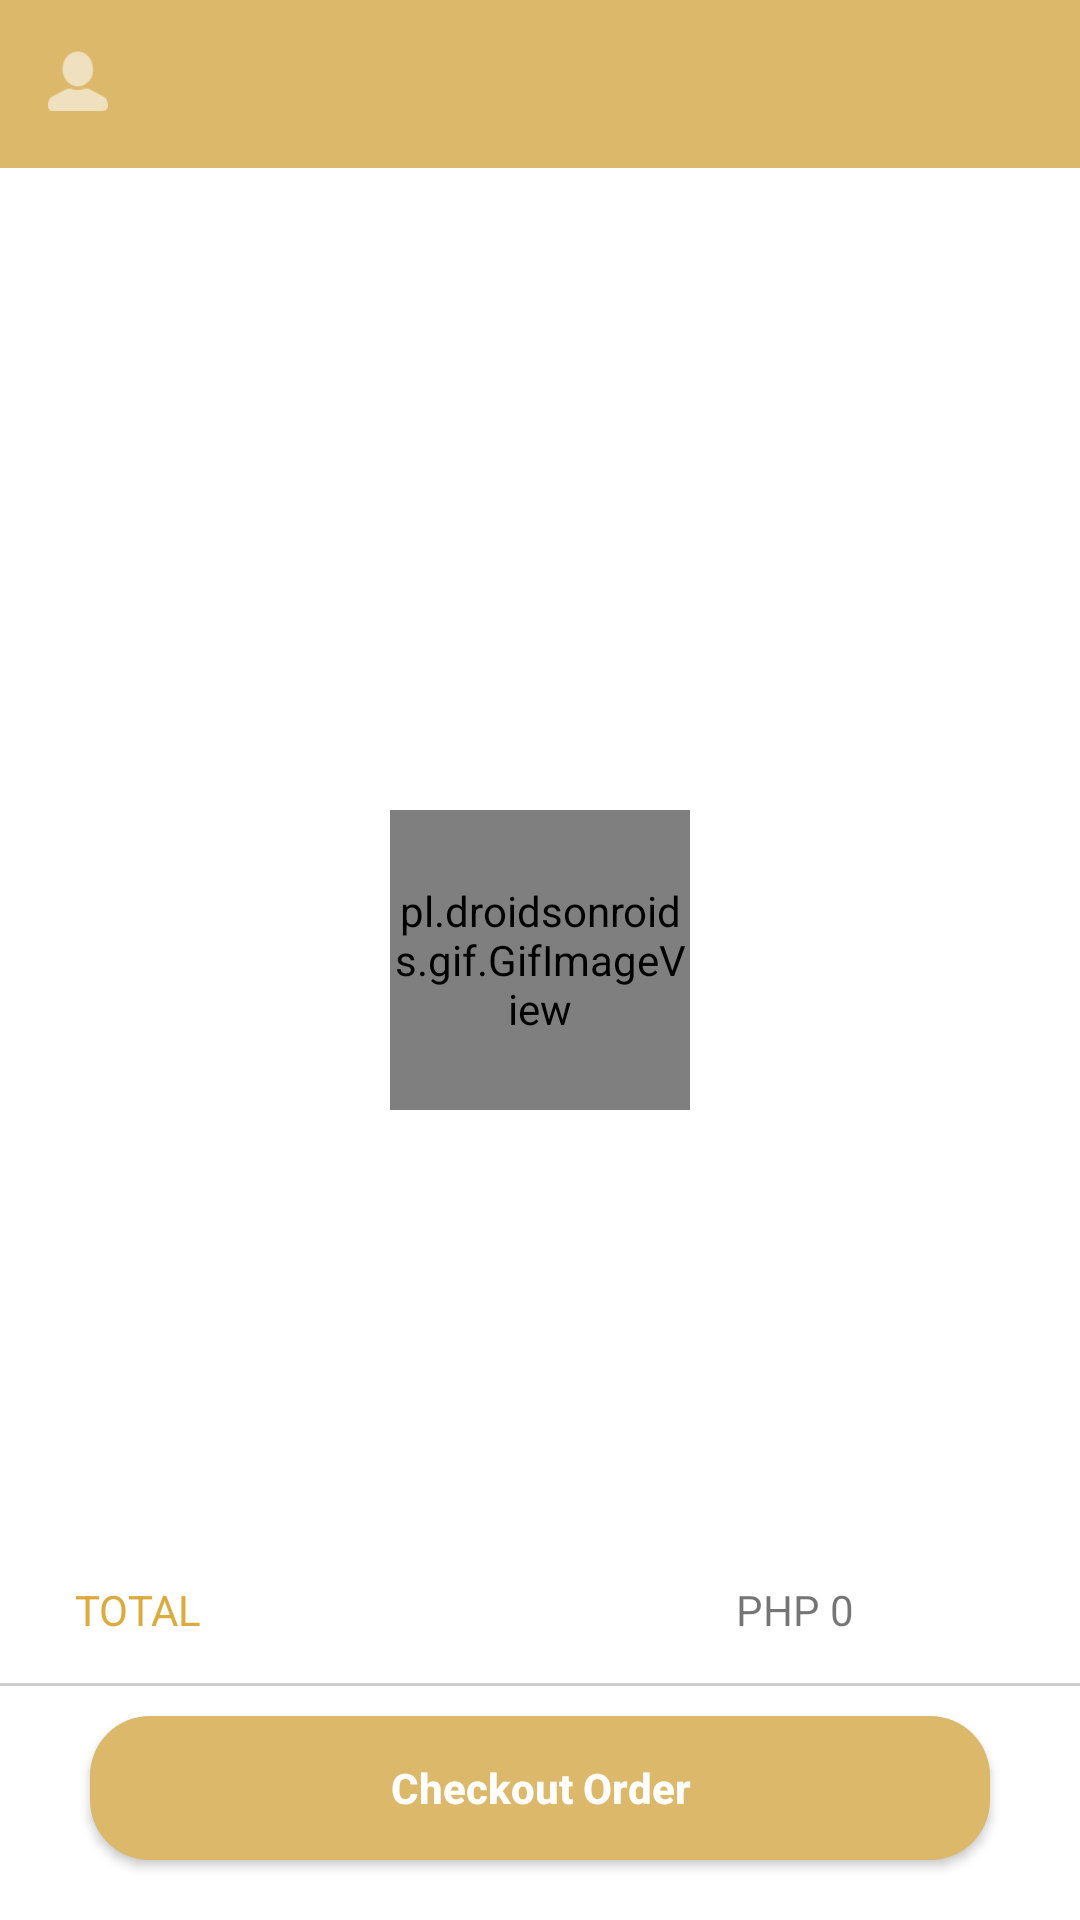

Point at icon controls on the screen. Image size 1080×1920, points as (x,y).
profile: (78,81)
